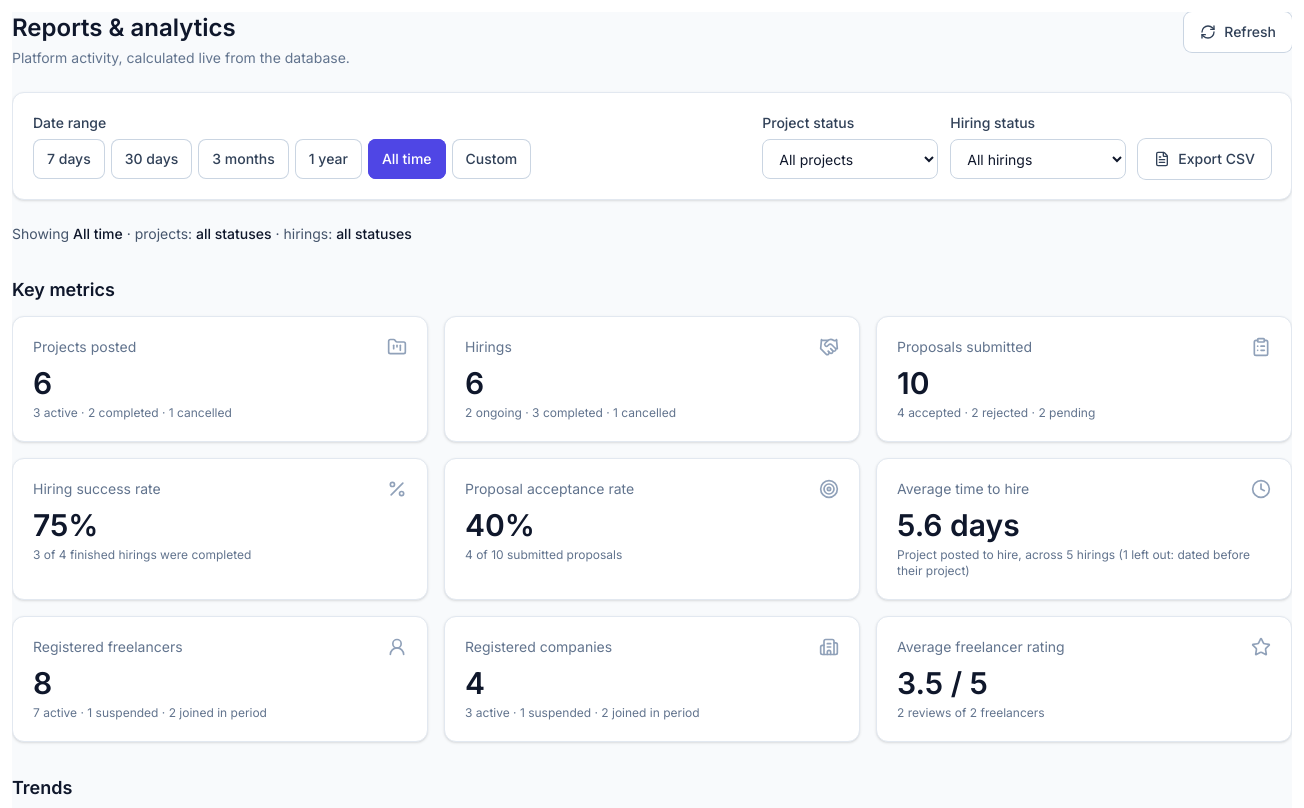
Test case: the page › a failed refresh keeps the report on screen and says it is out of date
Expected: the heading "Key metrics" is shown, x1=12 y1=279 x2=115 y2=300
Click the button "7 days": (69, 159) x1=33 y1=139 x2=105 y2=179
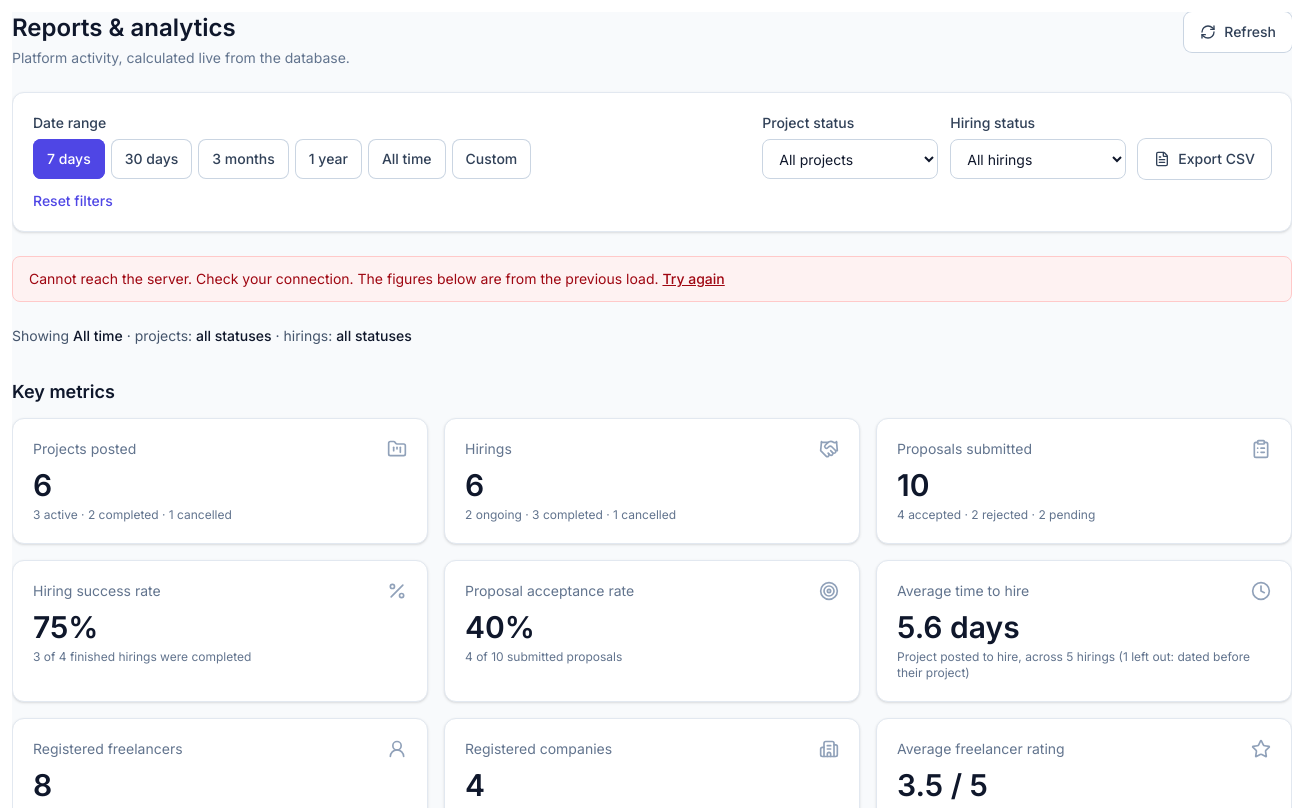
Expected: the heading "Key metrics" is shown, x1=12 y1=381 x2=115 y2=402
Now the message shows "Cannot reach the server.", box x1=29 y1=270 x2=354 y2=287
Now the message shows "previous load", box x1=354 y1=270 x2=662 y2=287
